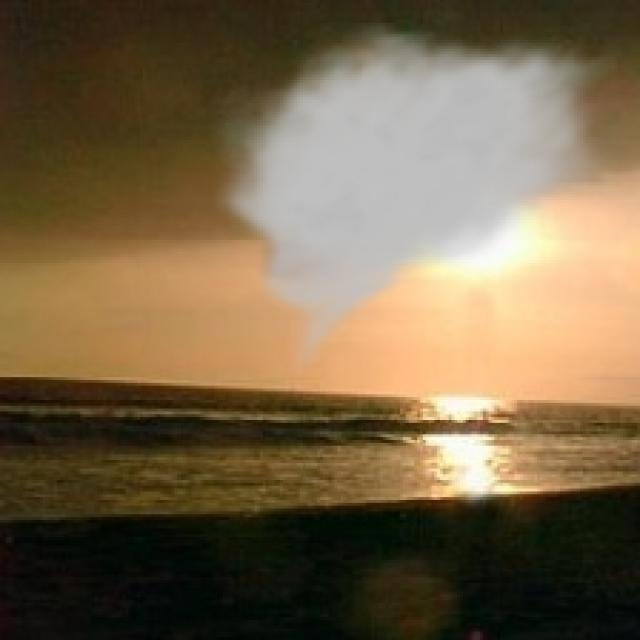smoke: (209, 23, 620, 380)
